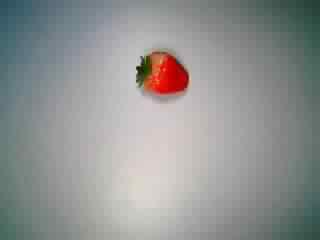strawberry: (128, 43, 194, 105)
